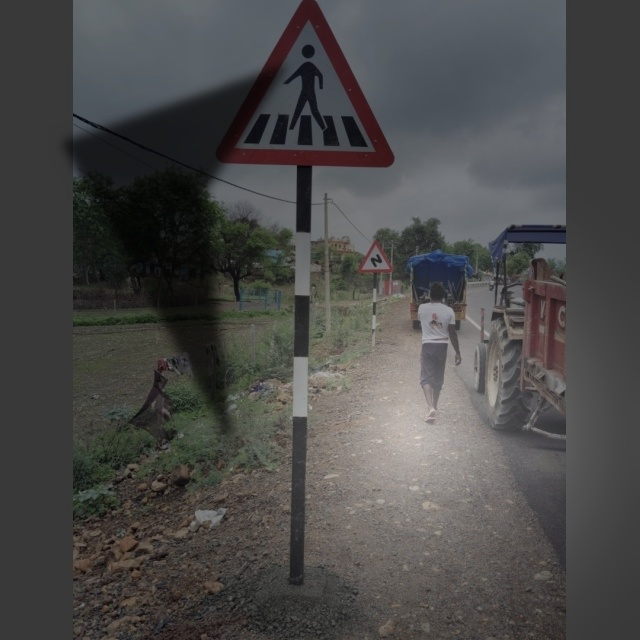Pedestrian_Crossing: (216, 4, 394, 165)
